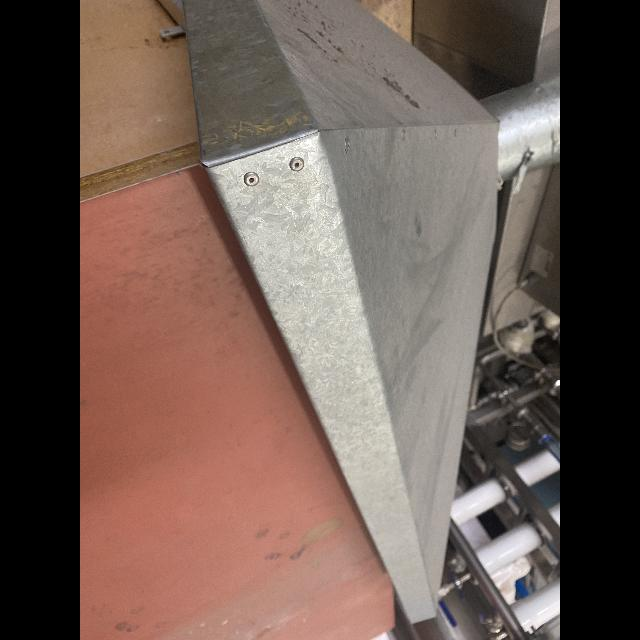Galvanized Steel: (183, 0, 560, 625)
